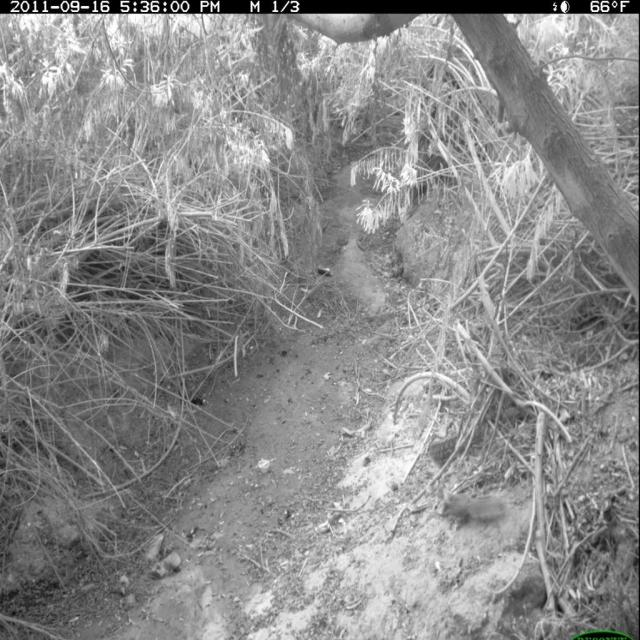squirrel: (434, 480, 512, 533)
